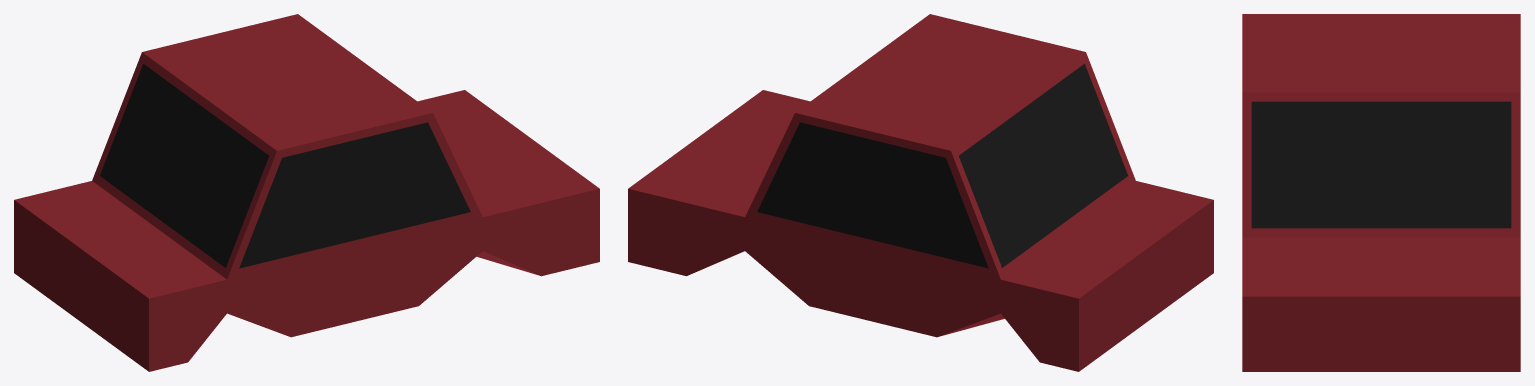
File: Car Model.gltf
The picture shows the model from 3 angles, left to right: view 1: azimuth 30°, elevation 25°; view 2: azimuth 150°, elevation 25°; view 3: azimuth 270°, elevation 25°; orthographic projection. The views are drawn at different scales.
Visible parts, largest first — view 1: Car; view 2: Car; view 3: Car.
Boxes of the visible parts, box(x1,y1,x2,y2) form: Car: box(14, 14, 599, 371); Car: box(628, 14, 1213, 371); Car: box(1242, 14, 1520, 371).
Bounding box in the file's own units: 5.78 × 2.33 × 3.
